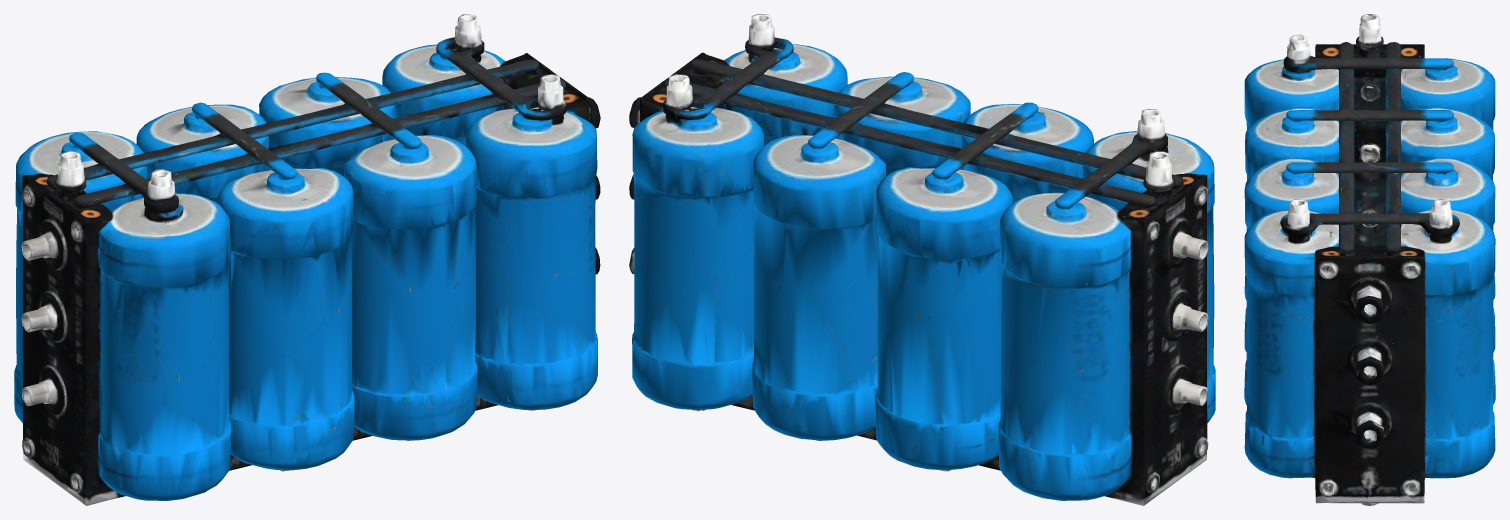
File: supercap.glb
The picture shows the model from 3 angles, left to right: view 1: azimuth 30°, elevation 25°; view 2: azimuth 150°, elevation 25°; view 3: azimuth 270°, elevation 25°; orthographic projection. The views are drawn at different scales.
Bounding box in the file's own units: 1.9 × 1.07 × 0.8443.
Materials: 1 (1 with a texture image).
